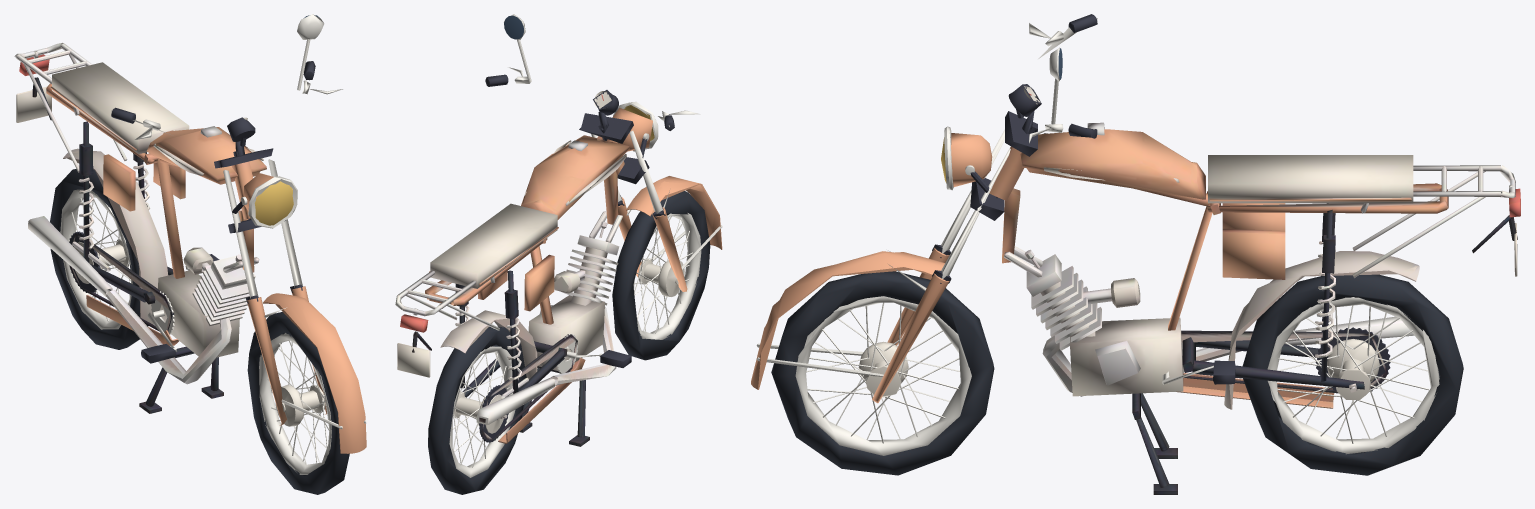
File: moped.glb
3 views of the same model, side by side, from view 1: azimuth 30°, elevation 25°; view 2: azimuth 150°, elevation 25°; view 3: azimuth 270°, elevation 25° (orthographic). The views are drawn at different scales.
Visible parts, largest first — view 1: moped_body, moped_crank; view 2: moped_body, moped_crank; view 3: moped_crank, moped_body.
Boxes of the visible parts, x1,y1,x2,y2 form: moped_body: (14, 42, 266, 413); moped_crank: (50, 14, 366, 494); moped_body: (395, 135, 629, 446); moped_crank: (428, 14, 722, 494); moped_crank: (751, 14, 1463, 475); moped_body: (989, 122, 1520, 494).
Size of the model in its own units: 0.71 by 1.29 by 1.9.
Materials: 2 (2 with a texture image).
